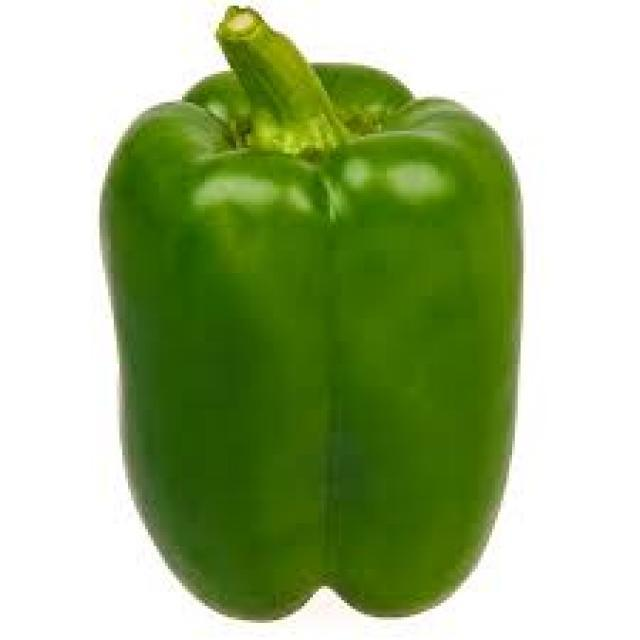Pepper: (98, 7, 525, 624)
